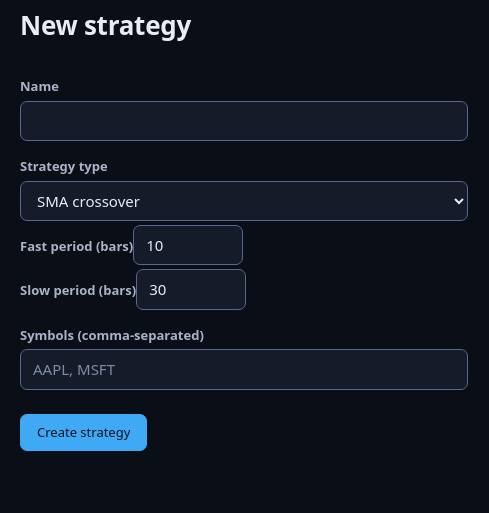
it: StrategyEditor › switches fields when a different strategy type is chosen
The image size is (489, 513).
Select "RSI reversion" in the dropdown labelled "Strategy type". click: (244,200)
box: 20,180 -> 468,220
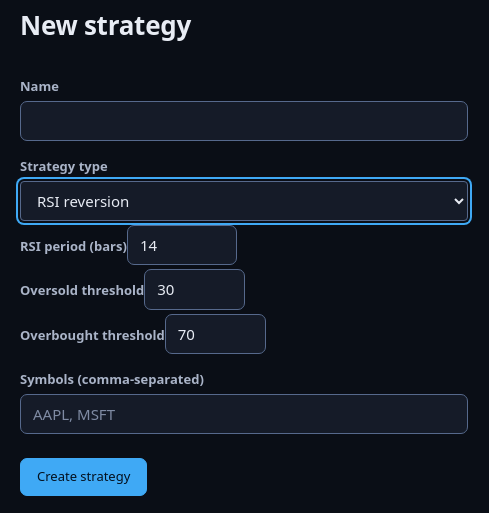
Check: the number field labelled "RSI period (bars)" is shown, box 127,224 -> 237,265
Check: the label labelled "Fast period" is gone
